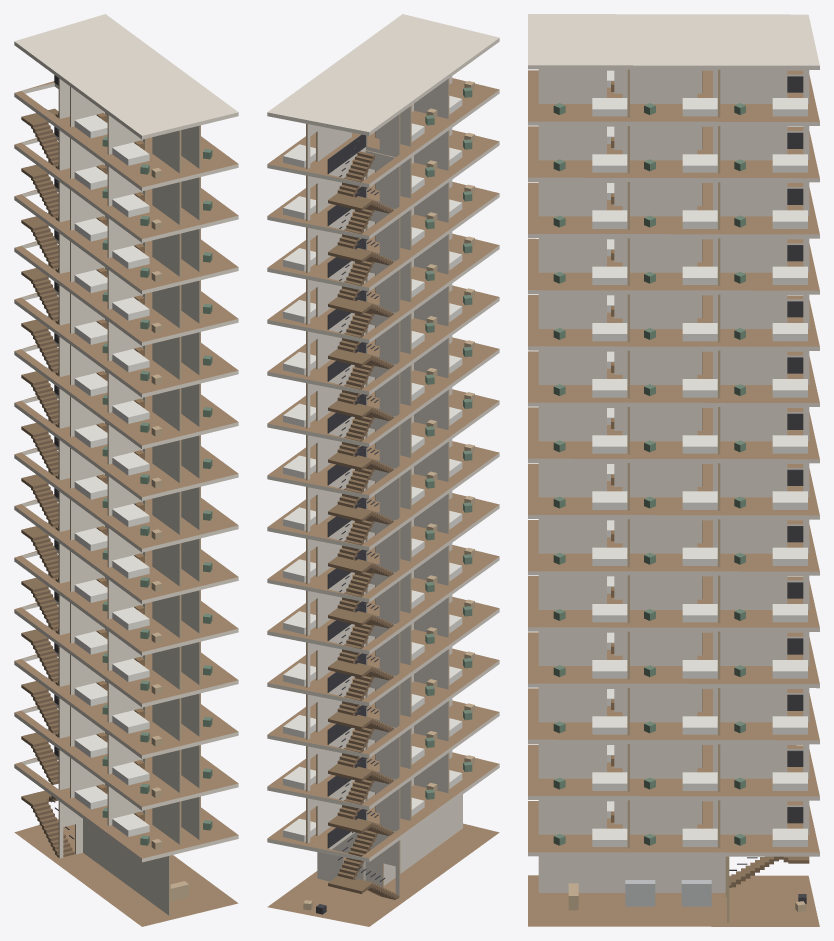
File: interior.glb
The picture shows the model from 3 angles, left to right: view 1: azimuth 30°, elevation 25°; view 2: azimuth 150°, elevation 25°; view 3: azimuth 270°, elevation 25°; orthographic projection. The views are drawn at different scales.
Parts seen in each view (by area): view 1: slabs, partitions, stair, coarse-s3, coarse-s5, coarse-s12, coarse-s2, coarse-s10, coarse-s11, coarse-s1, coarse-s4, coarse-s7 (+5 smaller); view 2: slabs, partitions, stair, coarse-s14, coarse-s1, coarse-s2, coarse-s3, coarse-s8, coarse-s9, coarse-s6, coarse-s7, coarse-s10 (+5 smaller); view 3: partitions, slabs, stair, coarse-s13, coarse-s2, coarse-s4, coarse-s7, coarse-s1, coarse-s6, coarse-s9, coarse-s12, coarse-s11 (+6 smaller).
Part boxes in pixels (x1,y1,x2,y2): slabs: (14,14,238,926); partitions: (58,78,200,915); stair: (21,75,74,857); coarse-s3: (74,681,212,746); coarse-s5: (74,577,212,643); coarse-s12: (74,216,212,281); coarse-s2: (74,732,212,798); coarse-s10: (74,319,212,385); coarse-s11: (74,268,212,333); coarse-s1: (74,784,212,849); coarse-s4: (74,629,212,694); coarse-s7: (74,474,212,539); slabs: (267,14,499,926); partitions: (306,76,462,897); stair: (327,134,399,899); coarse-s14: (283,81,474,167); coarse-s1: (283,755,474,841); coarse-s2: (283,703,474,790); coarse-s3: (283,651,474,738); coarse-s8: (283,392,474,478); coarse-s9: (283,340,474,427); coarse-s6: (283,496,474,582); coarse-s7: (283,444,474,530); coarse-s10: (283,288,474,375); partitions: (538,69,809,922); slabs: (528,14,819,926); stair: (729,76,809,887); coarse-s13: (553,126,807,172); coarse-s2: (553,745,807,790); coarse-s4: (553,632,807,678); coarse-s7: (553,464,807,509); coarse-s1: (553,801,807,846); coarse-s6: (553,520,807,565); coarse-s9: (553,351,807,397); coarse-s12: (553,183,807,228); coarse-s11: (553,239,807,284).
Bounding box in the file's own units: 6.98 × 54.11 × 16.61.
